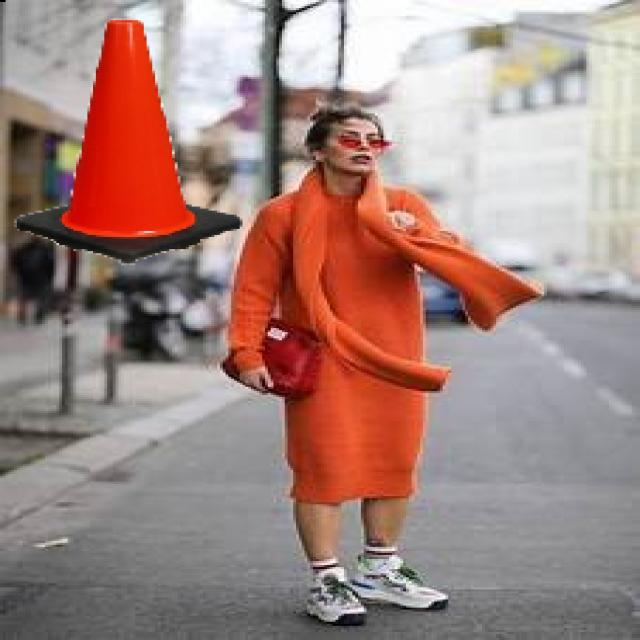traffic cone: (11, 10, 249, 271)
